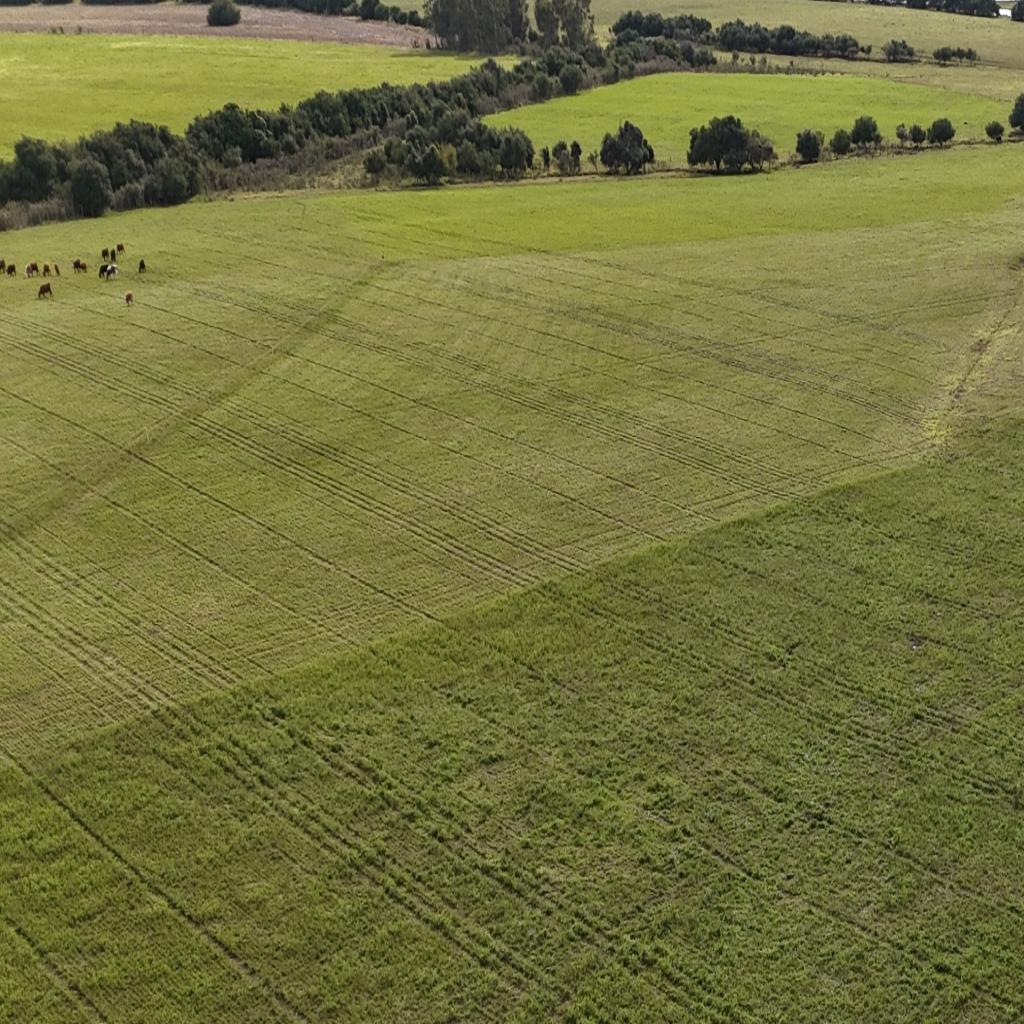cow: (106, 263, 120, 281), (38, 282, 52, 300), (26, 262, 40, 278), (50, 261, 62, 275), (98, 264, 109, 278), (42, 263, 52, 277), (100, 249, 110, 263), (124, 292, 134, 305), (20, 263, 30, 276), (116, 243, 125, 257), (110, 245, 118, 260), (7, 264, 16, 277), (80, 262, 88, 274), (72, 257, 80, 269), (0, 260, 5, 277), (138, 260, 145, 272)
